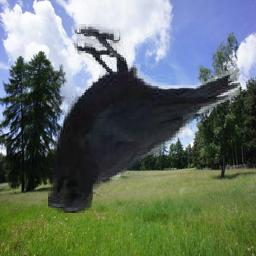Crow: (48, 25, 240, 214)
